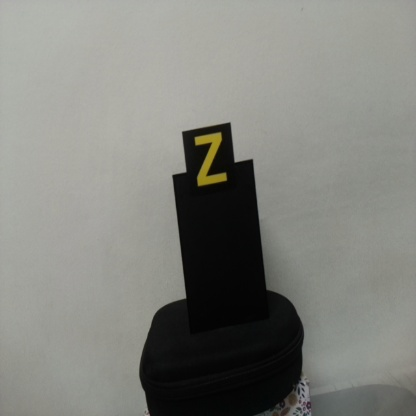id_15: (183, 131, 236, 196)
